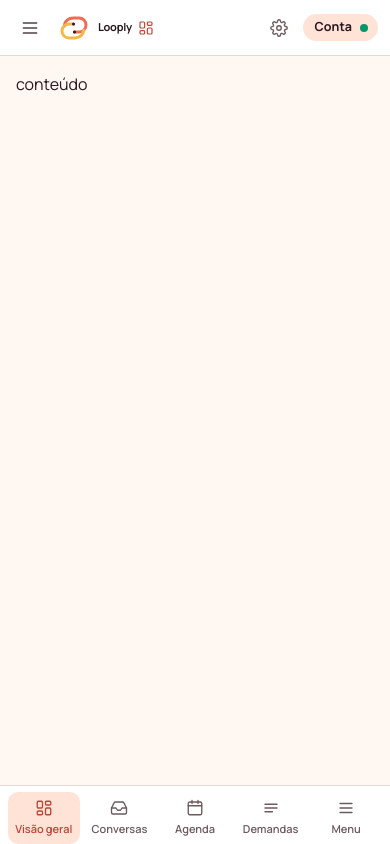
mobile app shell › clicking a secondary destination closes the menu on navigate
Click the button "Conta".
click(340, 28)  # box [303,14,378,41]
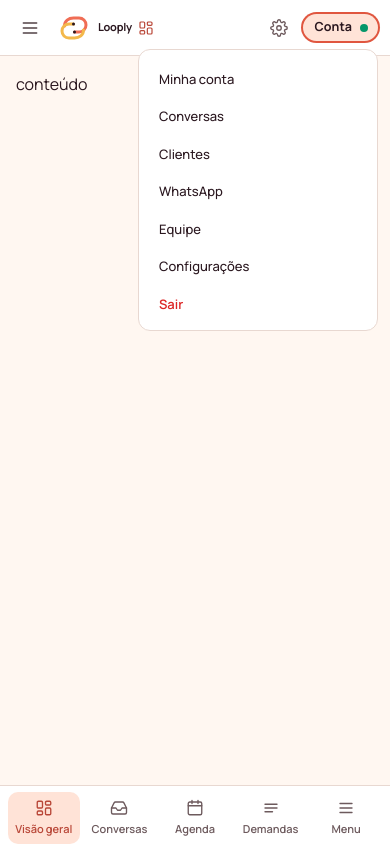
Click the link "Equipe".
click(180, 229)  # box [159,220,201,238]
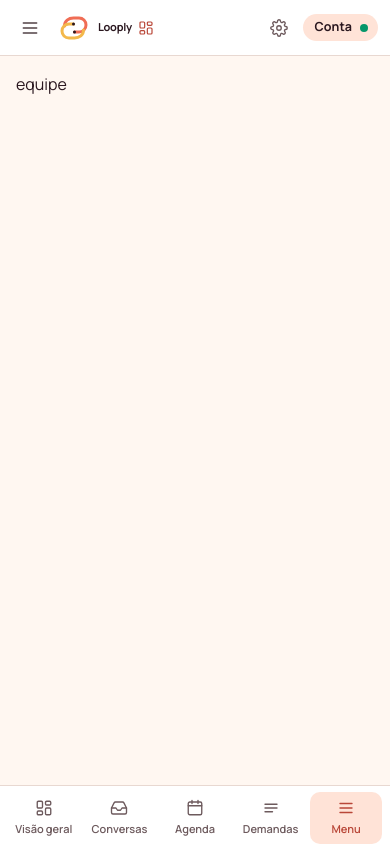
expect the menu is gone: met
expect the text "equipe" is shown: met, box [16,73,67,95]
